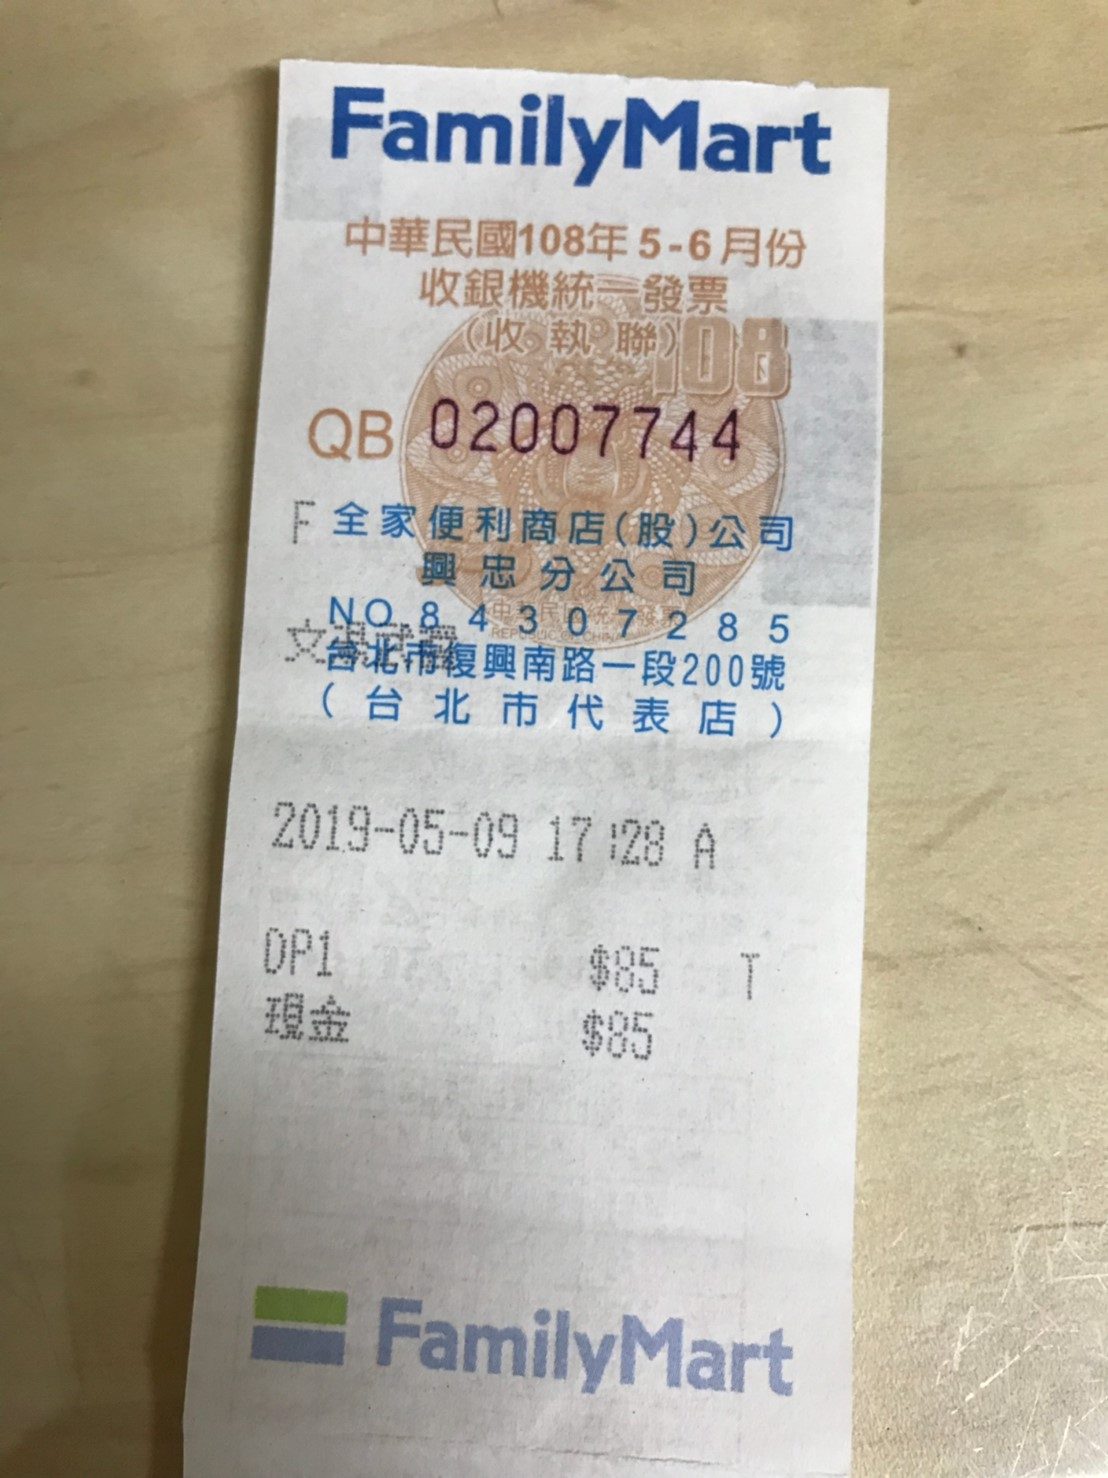Date_Old: (514, 218, 807, 271)
Number_Old: (428, 388, 748, 463)
